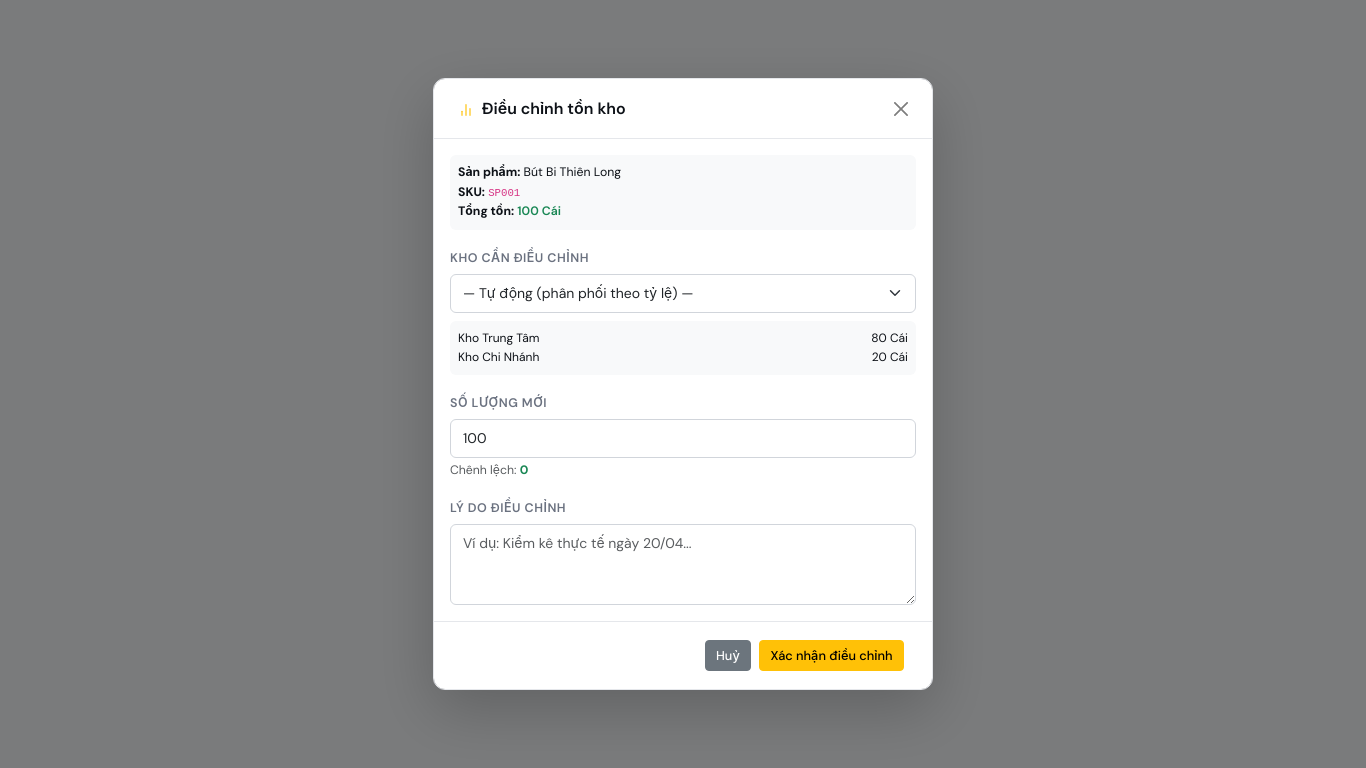
Test: AdjustmentModal Component › shows validation error if quantity is invalid
Note: Enter empty quantity
Clear the number field labelled "Số lượng mới" at (683, 438), box x1=450 y1=419 x2=916 y2=458
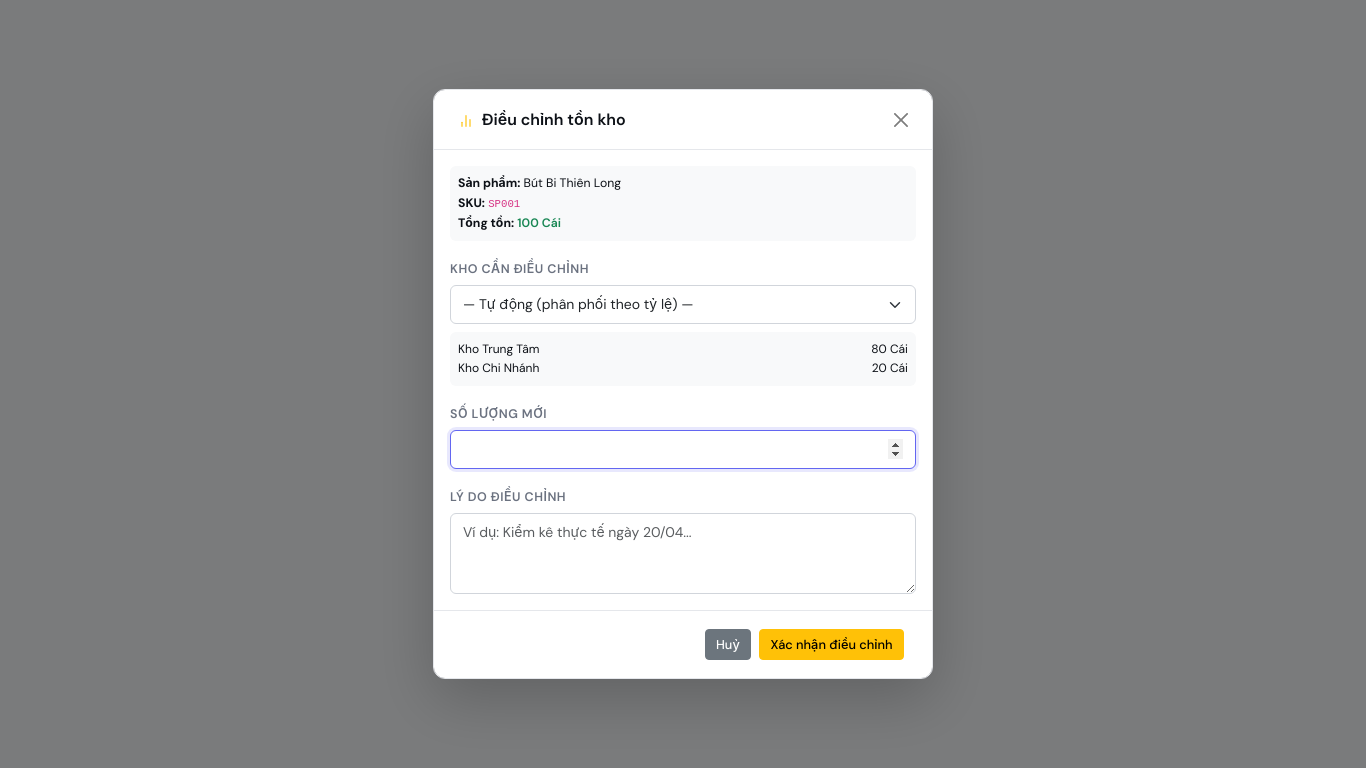
Click the button "Xác nhận điều chỉnh" at (832, 644), box x1=759 y1=629 x2=904 y2=660
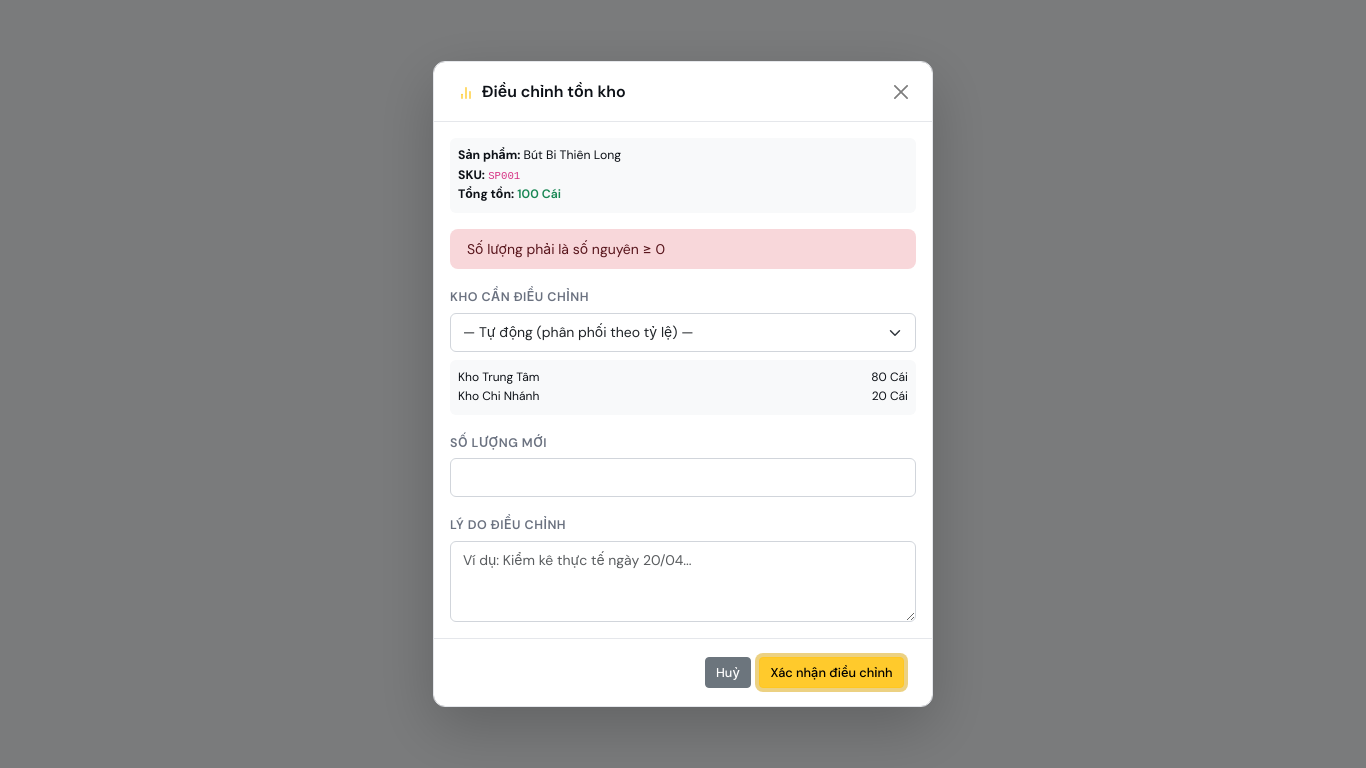
Check: the text "Số lượng phải là số nguyên ≥ 0" is shown, box x1=450 y1=229 x2=916 y2=270
